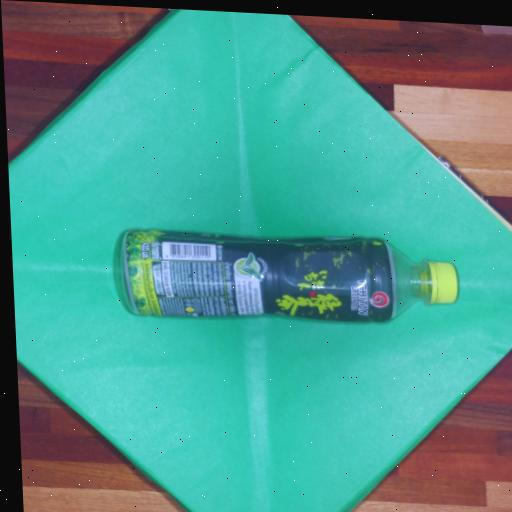bottle: (122, 230, 457, 322)
